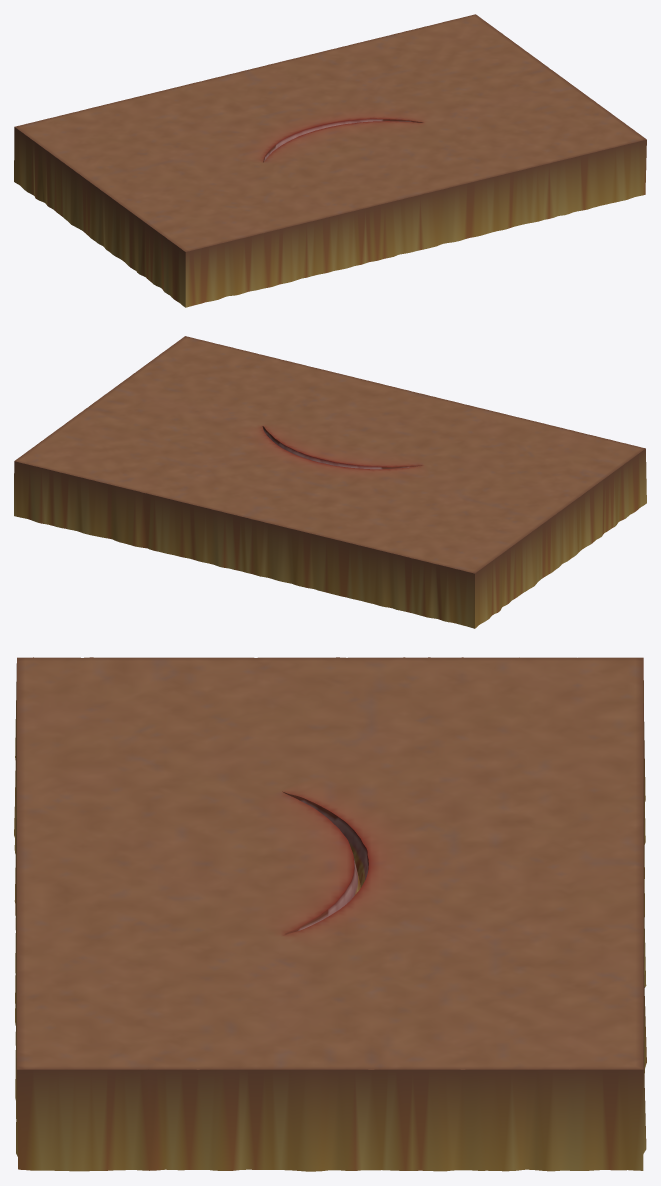
File: pad_curve.glb
3 renders of one model, top to bottom at view 1: azimuth 30°, elevation 25°; view 2: azimuth 150°, elevation 25°; view 3: azimuth 270°, elevation 25°, orthographic. The views are drawn at different scales.
Visible parts, largest first — view 1: pad_curve; view 2: pad_curve; view 3: pad_curve.
Part boxes in pixels (x1,y1,x2,y2): pad_curve: [14, 14, 646, 307]; pad_curve: [14, 336, 646, 628]; pad_curve: [14, 657, 646, 1171].
Bounding box in the file's own units: 14.08 × 1.61 × 9.09.
